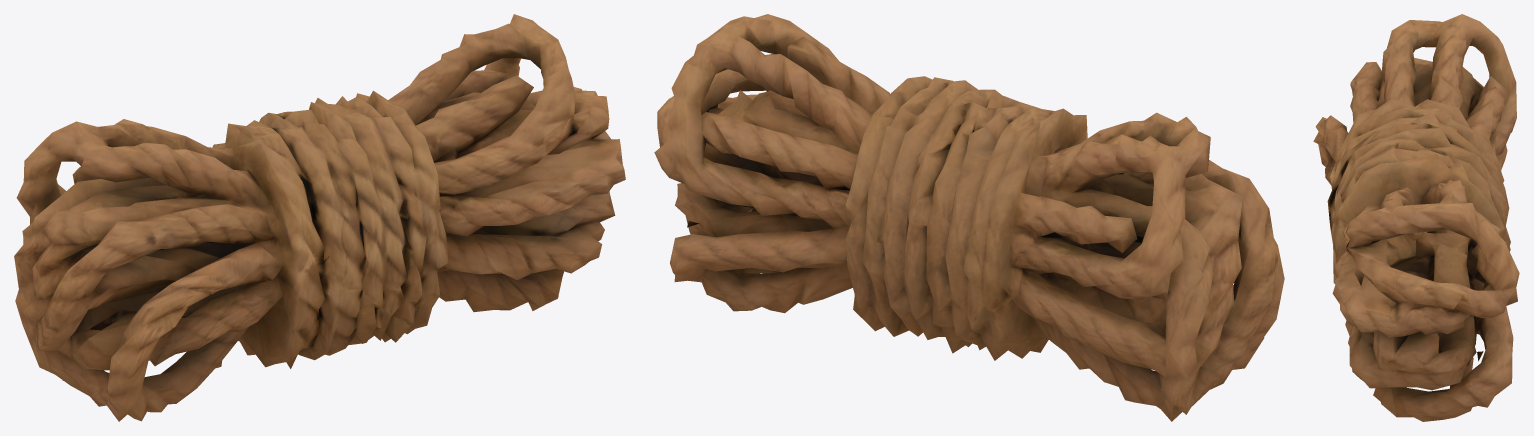
Rendered from base_basic_shaded.fbx.
3 renders of one model, left to right at view 1: azimuth 30°, elevation 25°; view 2: azimuth 150°, elevation 25°; view 3: azimuth 270°, elevation 25°, orthographic. The views are drawn at different scales.
Parts seen in each view (by area): view 1: model; view 2: model; view 3: model.
Part boxes in pixels (bbox=[...]): model: bbox=[14, 14, 625, 421]; model: bbox=[654, 14, 1284, 421]; model: bbox=[1313, 14, 1519, 421].
Bounding box in the file's own units: 184 × 81.97 × 68.15.
